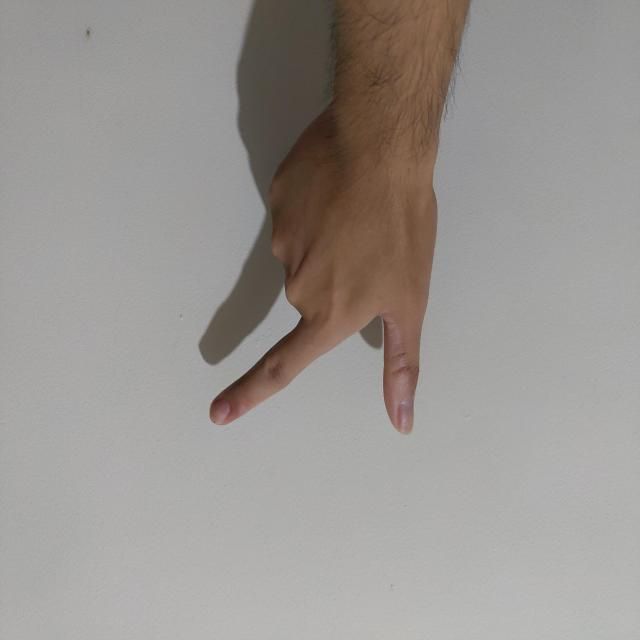G: (202, 202, 432, 538)
